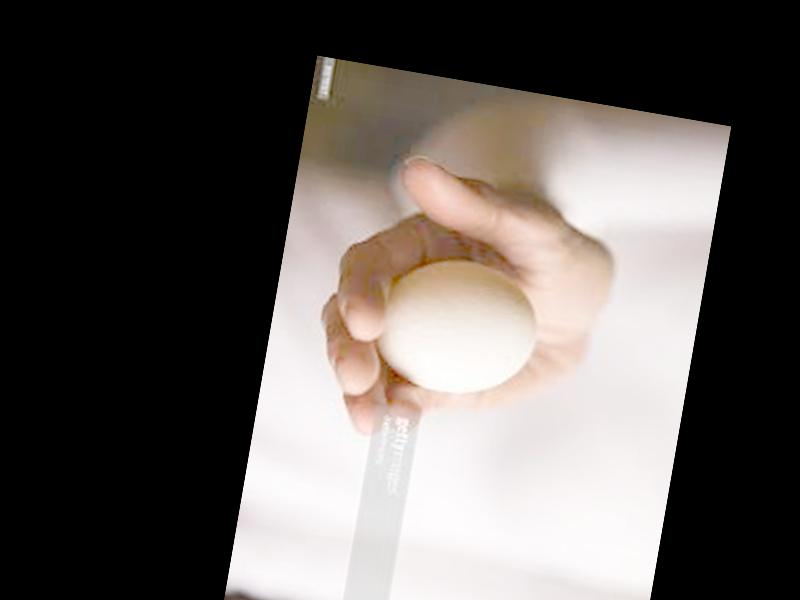Eggs: (370, 246, 545, 405)
